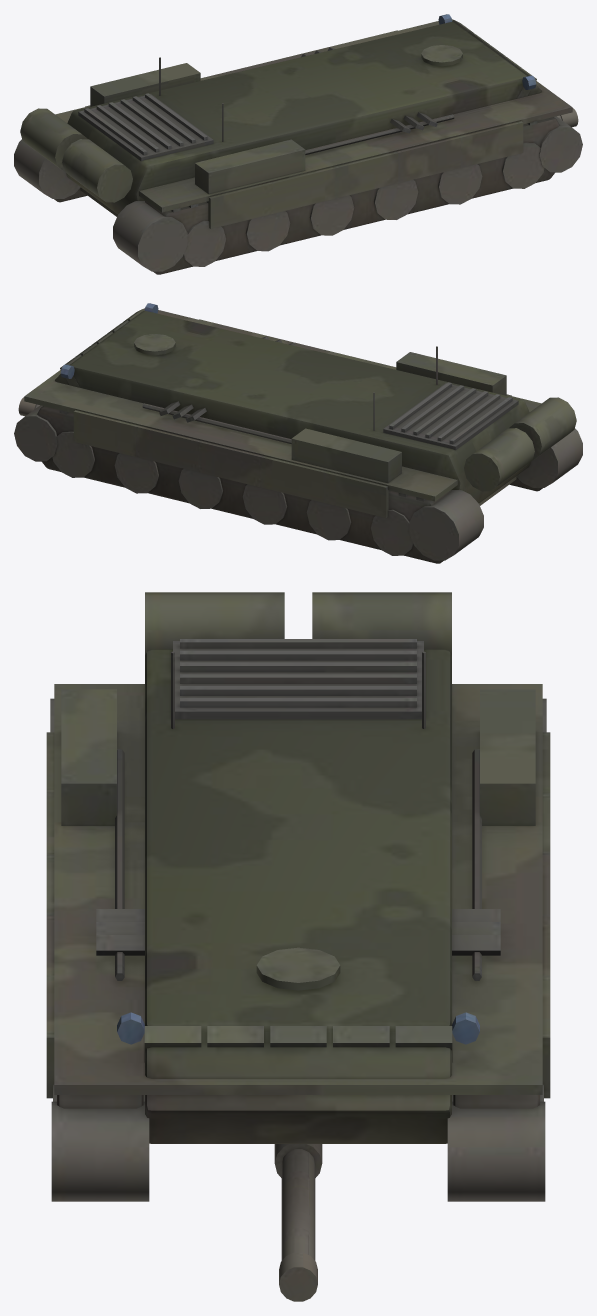
The picture shows the model from 3 angles, top to bottom: view 1: azimuth 30°, elevation 25°; view 2: azimuth 150°, elevation 25°; view 3: azimuth 270°, elevation 25°; orthographic projection. The views are drawn at different scales.
Parts seen in each view (by area): view 1: g_t72_hull; view 2: g_t72_hull; view 3: g_t72_hull, g_t72_gun.
Boxes of the visible parts, x1,y1,x2,y2 form: g_t72_hull: (14,14,582,274); g_t72_hull: (14,303,582,563); g_t72_hull: (46,592,550,1201); g_t72_gun: (274,1144,322,1301).
Bounding box in the file's own units: 8.52 × 2.22 × 3.61.
Materials: 4 (3 with a texture image).
